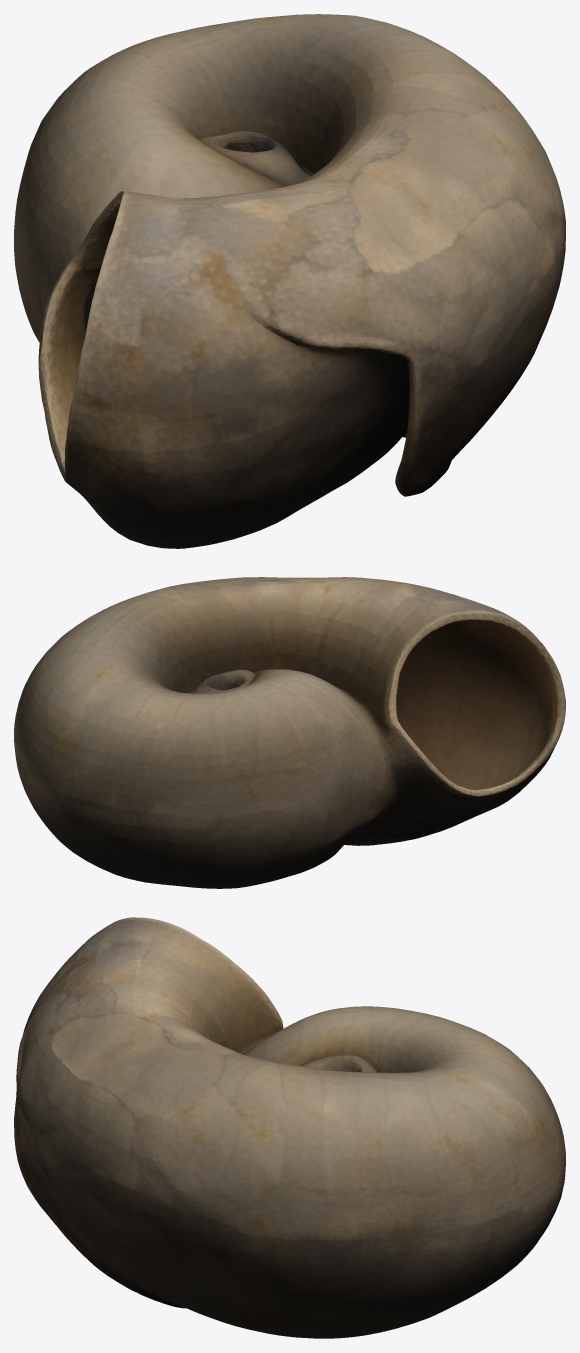
The picture shows the model from 3 angles, top to bottom: view 1: azimuth 30°, elevation 25°; view 2: azimuth 150°, elevation 25°; view 3: azimuth 270°, elevation 25°; orthographic projection. The views are drawn at different scales.
Visible parts, largest first — view 1: world; view 2: world; view 3: world.
Boxes of the visible parts, bbox=[...] form: world: bbox=[14, 14, 565, 548]; world: bbox=[14, 577, 565, 888]; world: bbox=[14, 917, 565, 1338].
Size of the model in its own units: 0.1391 by 0.078 by 0.14.
1 material, 1 textured.
